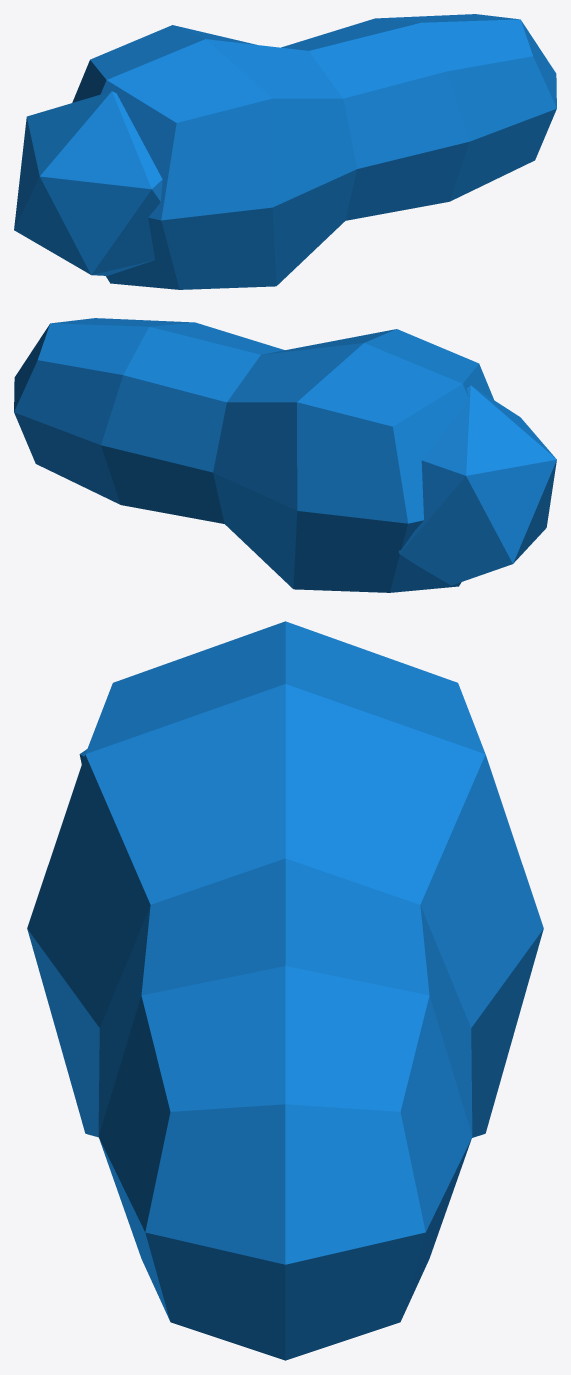
File: RIGHT_UPPER_ARM.fbx
3 renders of one model, top to bottom at view 1: azimuth 30°, elevation 25°; view 2: azimuth 150°, elevation 25°; view 3: azimuth 270°, elevation 25°, orthographic. The views are drawn at different scales.
Visible parts, largest first — view 1: RIGHT_SHOULDER; view 2: RIGHT_SHOULDER; view 3: RIGHT_SHOULDER.
Part boxes in pixels (x1,y1,x2,y2): RIGHT_SHOULDER: [14, 14, 556, 289]; RIGHT_SHOULDER: [14, 318, 556, 592]; RIGHT_SHOULDER: [27, 621, 543, 1360].
Size of the model in its own units: 0.6258 by 0.2741 by 0.2649.
